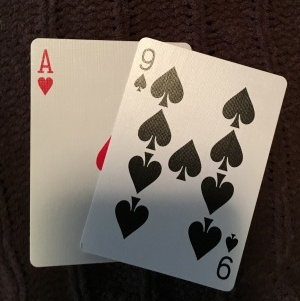card: (85, 39, 287, 292), (31, 37, 125, 264)
